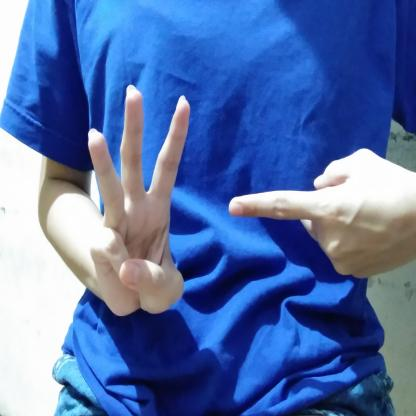why: (76, 78, 416, 323)
